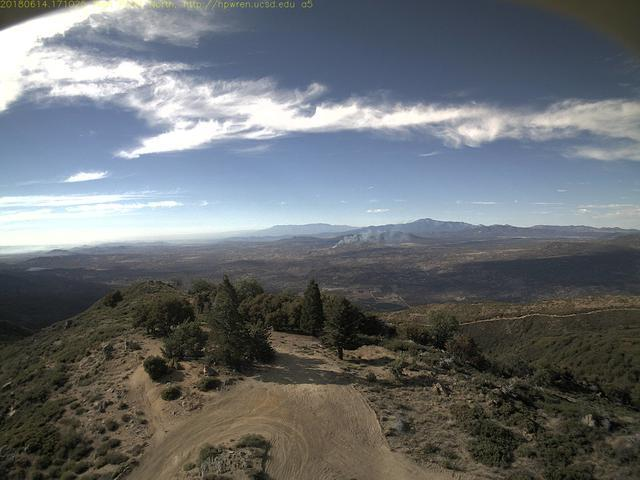smoke: (321, 223, 414, 254)
